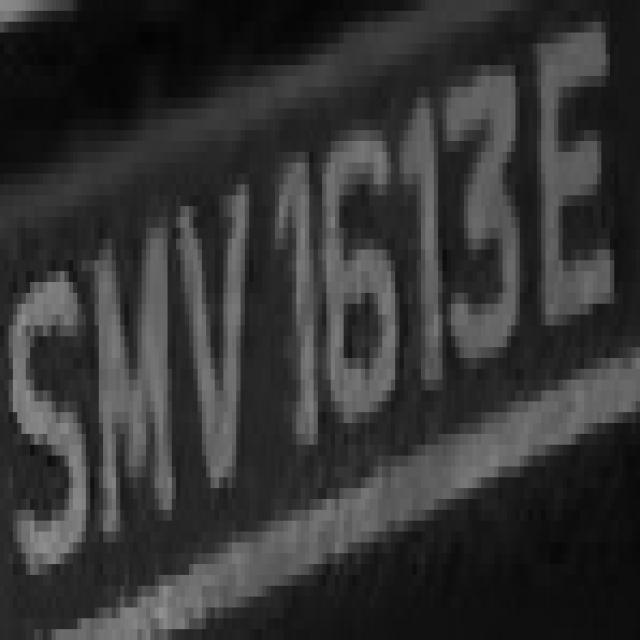1: (395, 54, 447, 434), (271, 109, 322, 488)
3: (438, 43, 528, 390)
6: (322, 108, 395, 445)
E: (532, 22, 618, 380)
M: (86, 173, 176, 575)
S: (8, 206, 82, 608)
V: (163, 141, 258, 521)
